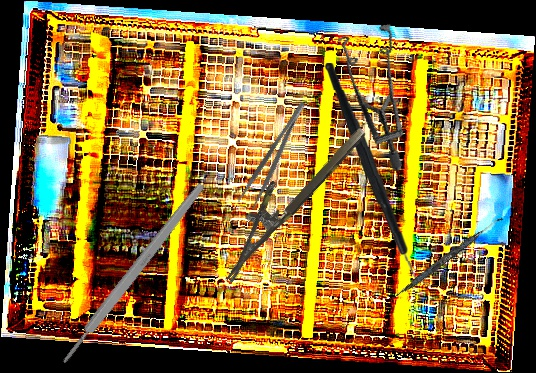Chopper: (323, 59, 435, 292)
Dressing Forceps: (235, 99, 317, 212)
Needle Holder: (201, 108, 369, 285)
Scalpel Handle: (58, 180, 207, 367)
Spatula Surgical: (389, 213, 503, 305)
Speculum: (303, 8, 445, 173)
